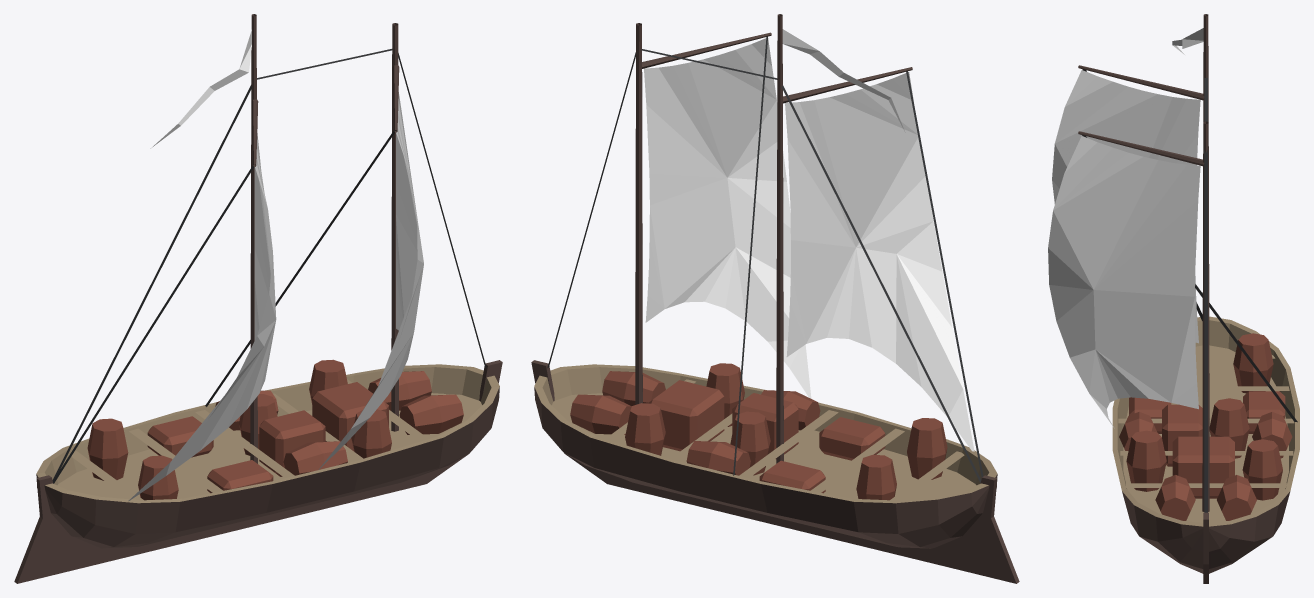
The model's file is Ketch.fbx.
3 views of the same model, side by side, from view 1: azimuth 30°, elevation 25°; view 2: azimuth 150°, elevation 25°; view 3: azimuth 270°, elevation 25° (orthographic). The views are drawn at different scales.
Visible parts, largest first — view 1: model_0.002; view 2: model_0.002; view 3: model_0.002.
Boxes of the visible parts, x1=… form: model_0.002: x1=14, y1=14, x2=502, y2=583; model_0.002: x1=531, y1=14, x2=1019, y2=583; model_0.002: x1=1048, y1=14, x2=1299, y2=583.
Bounding box in the file's own units: 18510 × 18568 × 8690.
